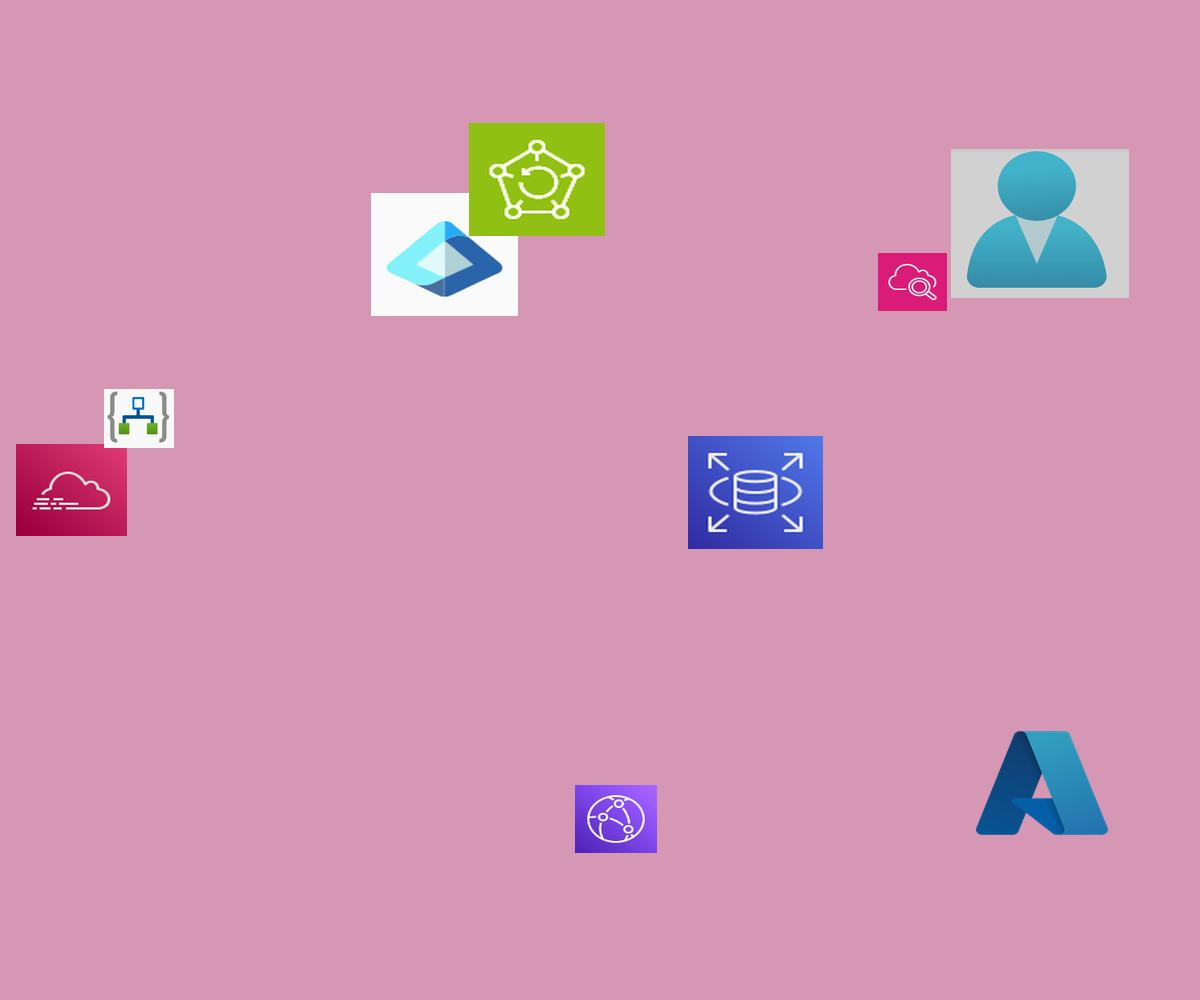AWS-Backup: (469, 123, 605, 236)
AWS-CloudFront: (575, 785, 657, 853)
AWS-CloudTrail: (16, 444, 127, 536)
AWS-CloudWatch: (878, 253, 947, 311)
AWS-RDS: (688, 436, 823, 549)
Azure_integration-204-Logic-Apps: (104, 389, 174, 448)
Azure_microsoft_entra: (371, 193, 518, 316)
Azure_services: (970, 723, 1114, 843)
Azure_users: (951, 149, 1129, 298)
